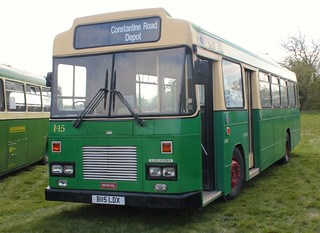bus: (45, 6, 299, 211)
